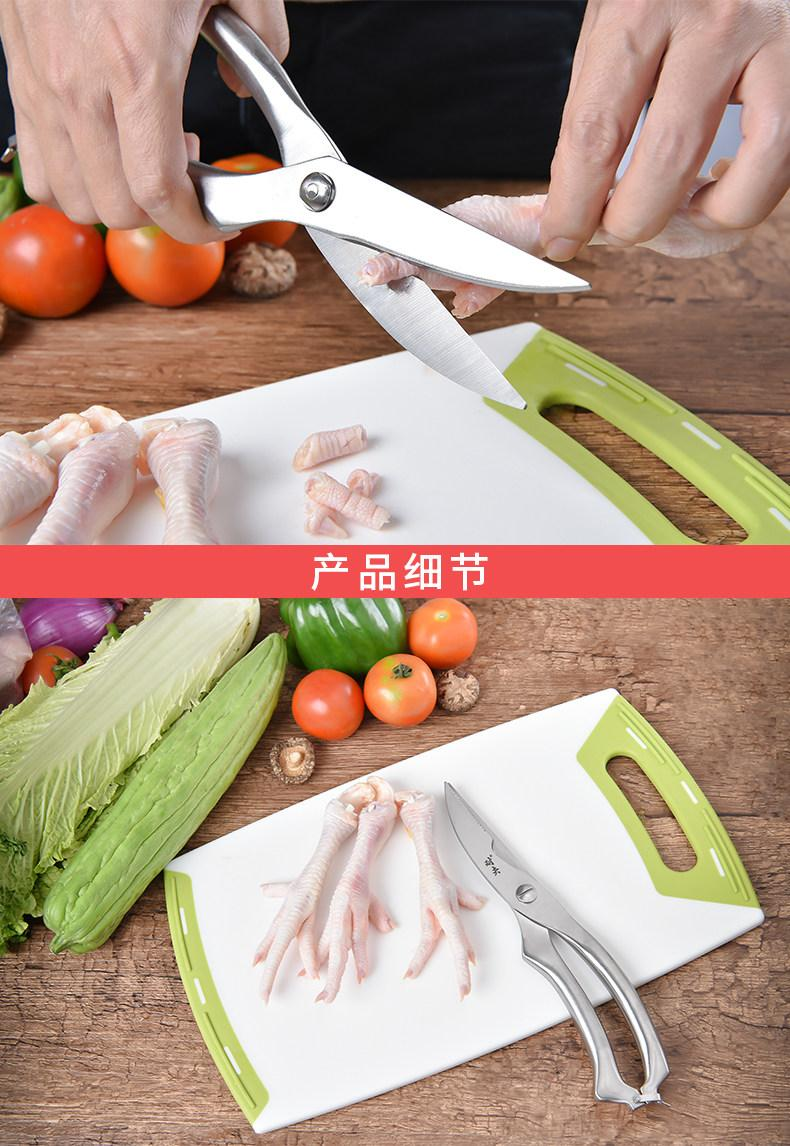scissor: (118, 63, 664, 426)
